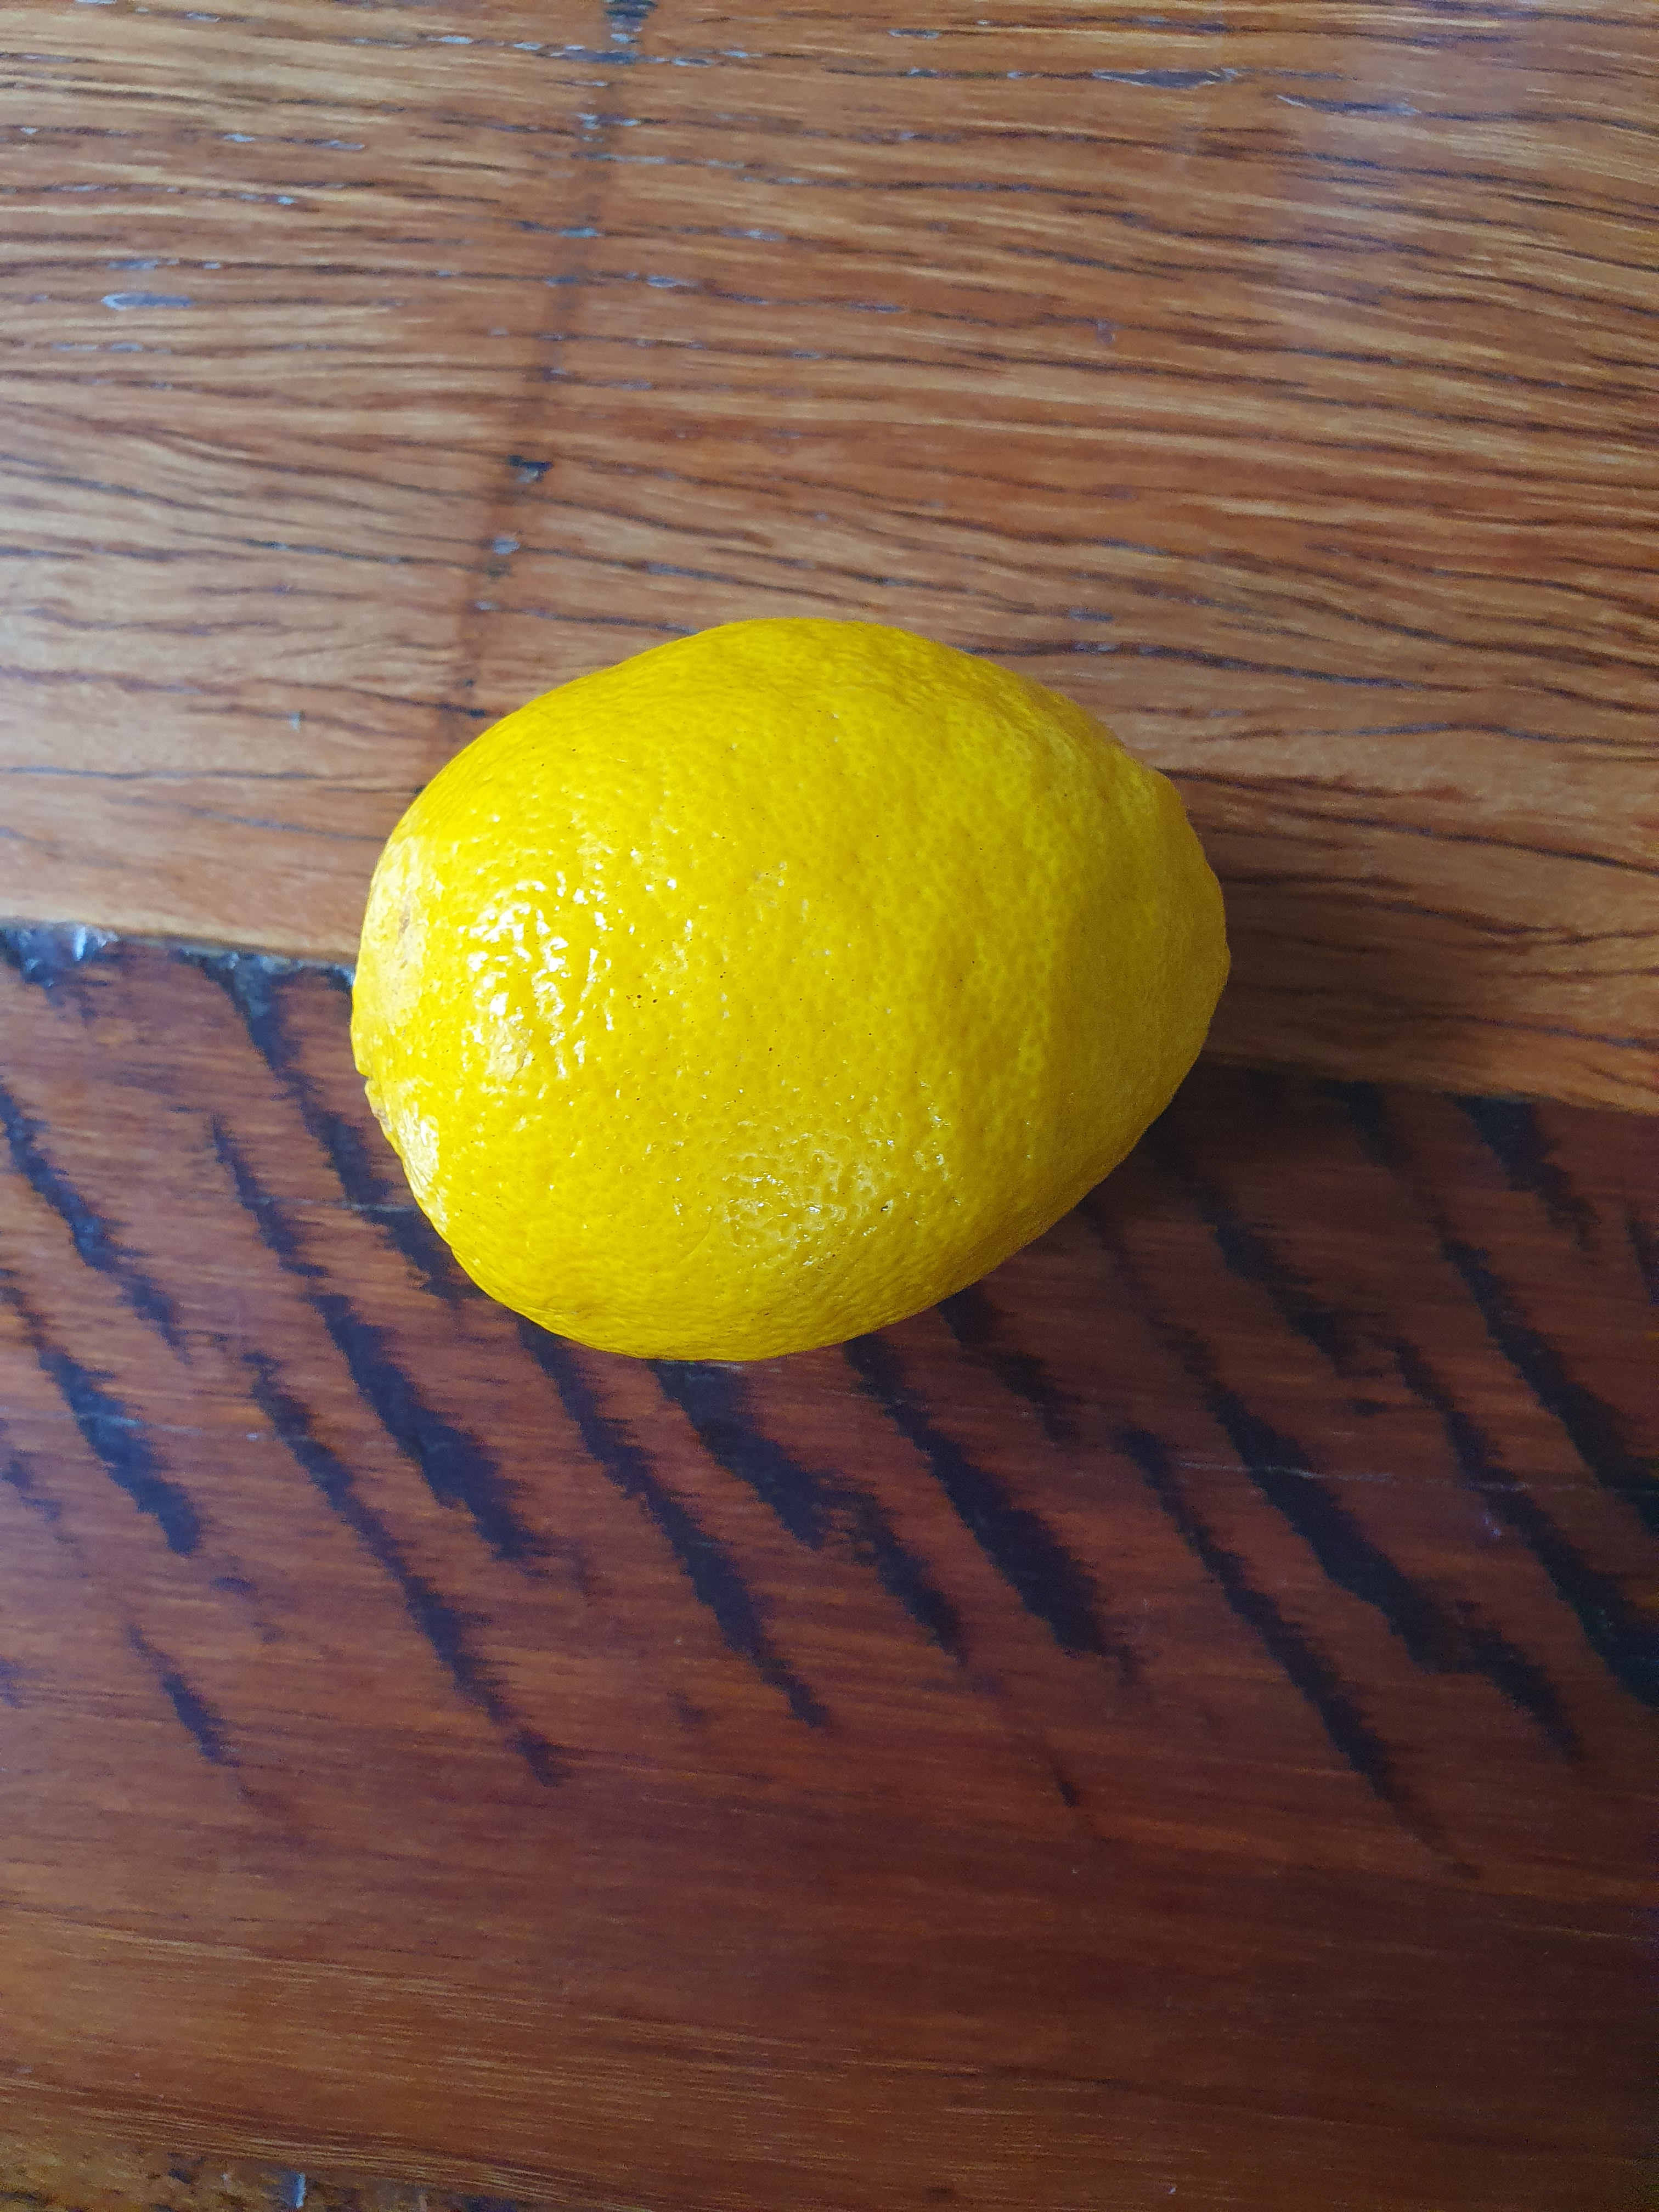lemon: (301, 561, 1288, 1395)
